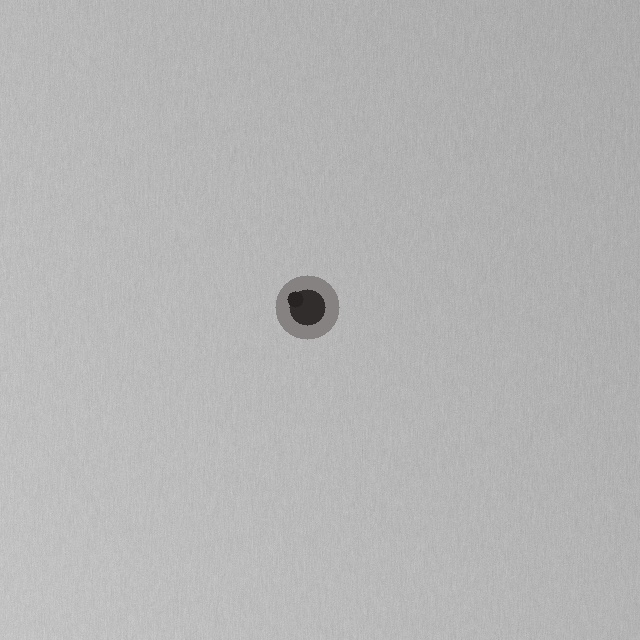inclusion: (160, 150, 520, 490)
